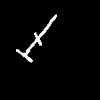double_crochet: (16, 15, 56, 61)
